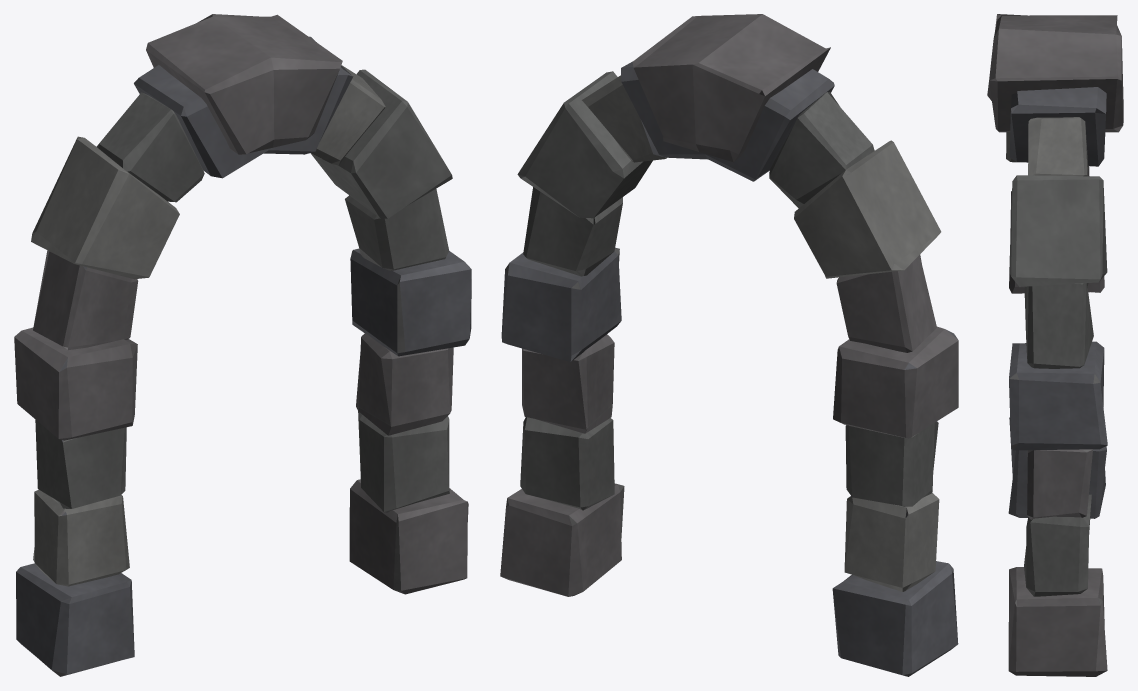
Rendered from SmallArch2.fbx.
3 renders of one model, left to right at view 1: azimuth 30°, elevation 25°; view 2: azimuth 150°, elevation 25°; view 3: azimuth 270°, elevation 25°, orthographic. The views are drawn at different scales.
Visible parts, largest first — view 1: SmallArch; view 2: SmallArch; view 3: SmallArch.
Part boxes in pixels (x1=…): SmallArch: x1=14, y1=14, x2=471, y2=676; SmallArch: x1=500, y1=14, x2=958, y2=676; SmallArch: x1=987, y1=14, x2=1123, y2=676.
Size of the model in its own units: 92.92 by 123 by 27.47.
